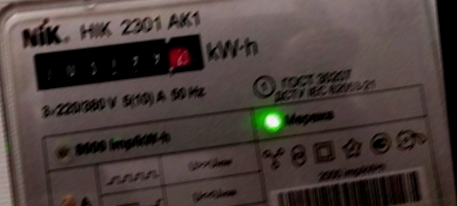0: (64, 58, 77, 78), (41, 61, 52, 80)
1: (107, 50, 118, 69)
3: (86, 56, 98, 77)
6: (174, 51, 185, 66)
9: (128, 47, 140, 68), (150, 47, 162, 66)
screen: (25, 24, 212, 97)
